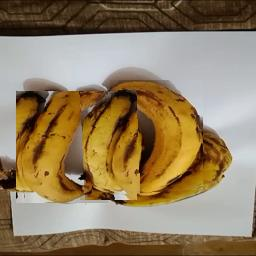Banana Semifresh: (111, 81, 204, 196), (17, 91, 109, 203), (81, 92, 138, 200)
